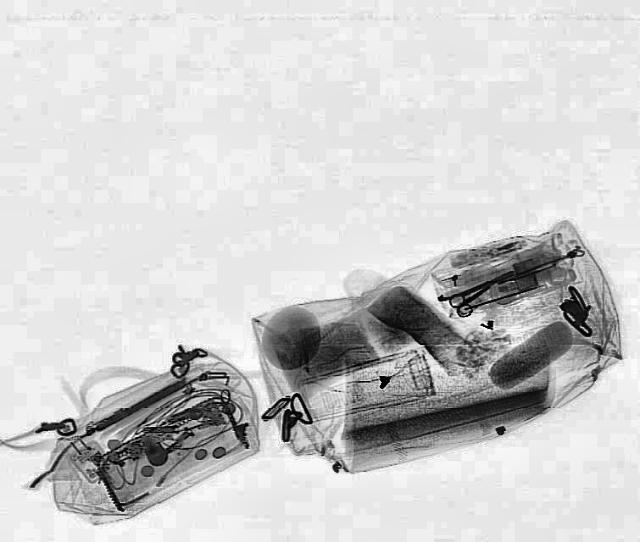Scissors: (442, 276, 500, 320)
